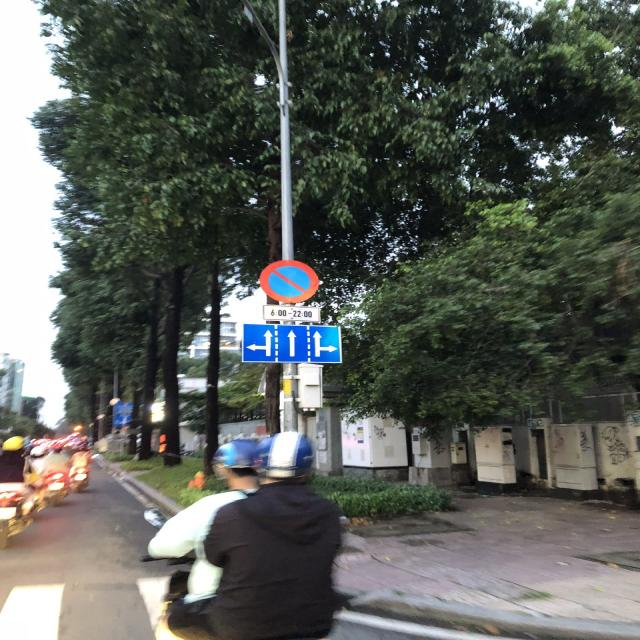Bien bao cam do xe: (254, 250, 324, 305)
